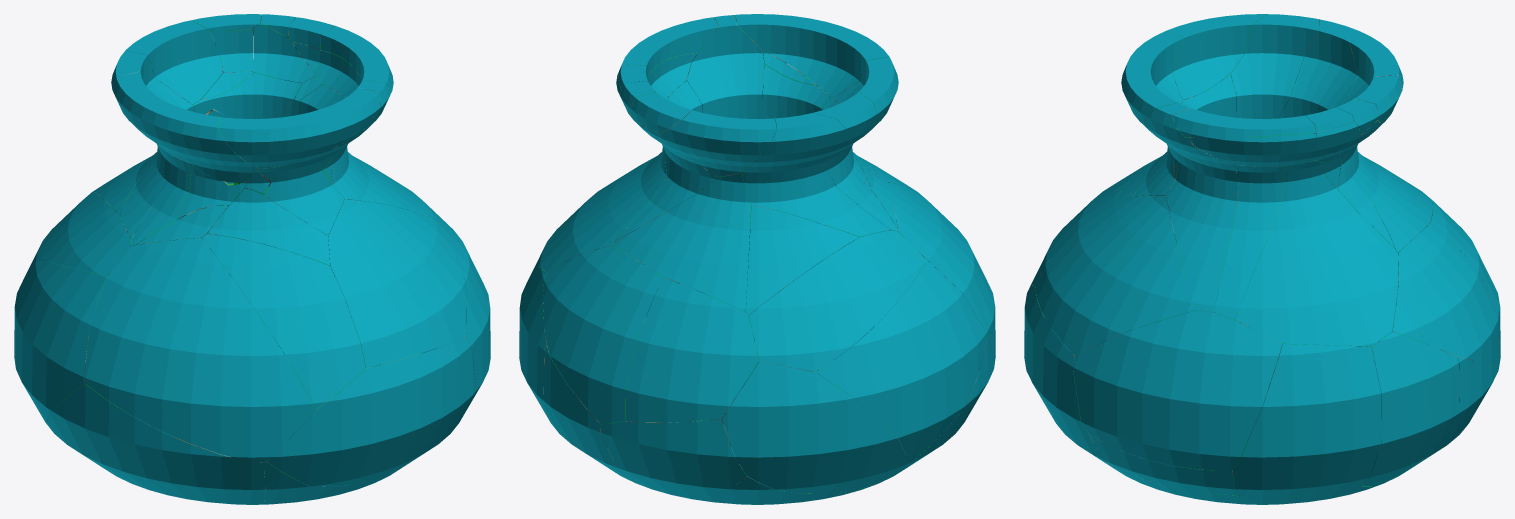
File: vase_0_broken.fbx
3 views of the same model, side by side, from view 1: azimuth 30°, elevation 25°; view 2: azimuth 150°, elevation 25°; view 3: azimuth 270°, elevation 25° (orthographic).
Visible parts, largest first — view 1: BezierCircle_cell.092, BezierCircle_cell.090, BezierCircle_cell.091, BezierCircle_cell.062, BezierCircle_cell.058, BezierCircle_cell.070, BezierCircle_cell.099, BezierCircle_cell.063, BezierCircle_cell.098, BezierCircle_cell.085, BezierCircle_cell.077, BezierCircle_cell.073 (+17 smaller); view 2: BezierCircle_cell.070, BezierCircle_cell.075, BezierCircle_cell.050, BezierCircle_cell.098, BezierCircle_cell.054, BezierCircle_cell.052, BezierCircle_cell.059, BezierCircle_cell.053, BezierCircle_cell.099, BezierCircle_cell.084, BezierCircle_cell.092, BezierCircle_cell.064 (+16 smaller); view 3: BezierCircle_cell.081, BezierCircle_cell.080, BezierCircle_cell.083, BezierCircle_cell.091, BezierCircle_cell.054, BezierCircle_cell.087, BezierCircle_cell.064, BezierCircle_cell.095, BezierCircle_cell.088, BezierCircle_cell.090, BezierCircle_cell.063, BezierCircle_cell.059 (+19 smaller).
Part boxes in pixels (x1,y1,x2,y2): BezierCircle_cell.092: (84,237,315,462); BezierCircle_cell.090: (266,337,476,486); BezierCircle_cell.091: (328,199,466,368); BezierCircle_cell.062: (201,234,365,409); BezierCircle_cell.058: (47,384,264,504); BezierCircle_cell.070: (14,256,106,425); BezierCircle_cell.099: (218,87,380,169); BezierCircle_cell.063: (128,99,258,244); BezierCircle_cell.098: (35,191,131,275); BezierCircle_cell.085: (126,20,223,104); BezierCircle_cell.077: (207,188,329,265); BezierCircle_cell.073: (257,126,367,235); BezierCircle_cell.070: (813,259,987,463); BezierCircle_cell.075: (722,361,908,493); BezierCircle_cell.050: (625,278,759,422); BezierCircle_cell.098: (748,230,925,371); BezierCircle_cell.054: (543,245,663,423); BezierCircle_cell.052: (611,172,751,312); BezierCircle_cell.059: (741,113,890,236); BezierCircle_cell.053: (600,417,746,496); BezierCircle_cell.099: (735,14,888,97); BezierCircle_cell.084: (746,205,859,315); BezierCircle_cell.092: (883,182,995,337); BezierCircle_cell.064: (686,15,764,118); BezierCircle_cell.081: (1073,310,1281,470); BezierCircle_cell.080: (1235,160,1398,346); BezierCircle_cell.083: (1232,344,1381,497); BezierCircle_cell.091: (1035,195,1196,355); BezierCircle_cell.054: (1392,223,1499,367); BezierCircle_cell.087: (1358,331,1459,486); BezierCircle_cell.064: (1144,102,1238,312); BezierCircle_cell.095: (1231,14,1319,118); BezierCircle_cell.088: (1214,164,1284,320); BezierCircle_cell.090: (1024,285,1105,461); BezierCircle_cell.063: (1165,14,1266,99); BezierCircle_cell.059: (1278,19,1369,118).
Bounding box in the file's own units: 395 × 361 × 395.
